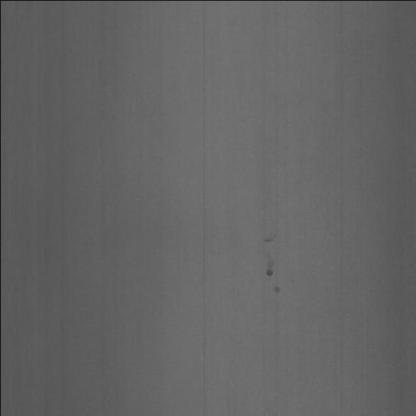oil_spot: (256, 263, 288, 313)
